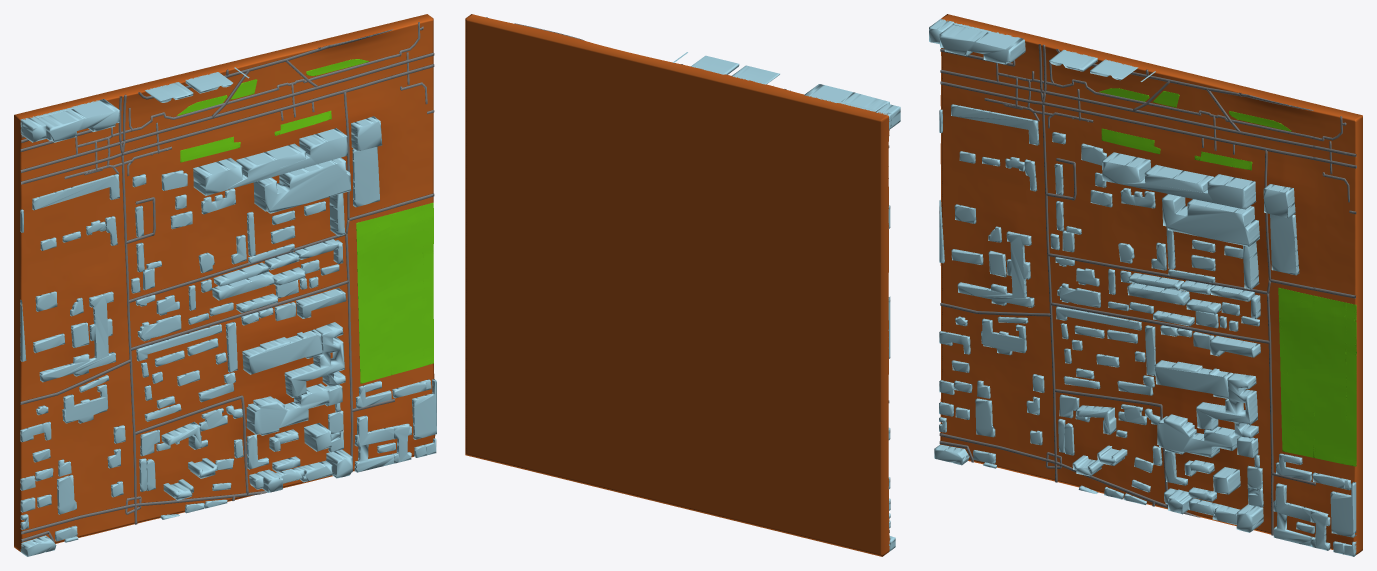
The picture shows the model from 3 angles, left to right: view 1: azimuth 30°, elevation 25°; view 2: azimuth 150°, elevation 25°; view 3: azimuth 330°, elevation 25°; orthographic projection.
Parts seen in each view (by area): view 1: building_0 (×2), terrain_6, terrain_4, terrain_5, terrain_0, terrain_1, terrain_2, terrain_3, terrain_7, landcover_5, landcover_6 (×2), transportation_19 (+9 smaller); view 2: terrain_1, terrain_4, terrain_2, terrain_6, terrain_5, terrain_0, terrain_3, terrain_7, building_0; view 3: building_0 (×2), terrain_6, terrain_4, terrain_5, terrain_0, terrain_1, terrain_2, terrain_3, terrain_7, landcover_5, landcover_6 (×2), transportation_19 (+9 smaller).
Part boxes in pixels (x1,y1,x2,y2): building_0 (×2): [20, 67, 436, 556]; terrain_6: [20, 33, 433, 193]; terrain_4: [20, 153, 433, 312]; terrain_5: [20, 94, 433, 251]; terrain_0: [20, 398, 435, 543]; terrain_1: [20, 350, 434, 490]; terrain_2: [20, 291, 359, 429]; terrain_3: [20, 233, 357, 371]; terrain_7: [14, 14, 433, 551]; landcover_5: [356, 205, 424, 383]; landcover_6 (×2): [391, 203, 433, 374]; transportation_19: [128, 232, 353, 472]; terrain_1: [465, 337, 882, 495]; terrain_4: [465, 154, 882, 315]; terrain_2: [465, 275, 882, 435]; terrain_6: [465, 34, 882, 194]; terrain_5: [465, 95, 882, 253]; terrain_0: [465, 396, 882, 556]; terrain_3: [465, 216, 882, 374]; terrain_7: [465, 14, 889, 556]; building_0: [673, 52, 900, 551]; building_0 (×2): [929, 19, 1356, 556]; terrain_6: [941, 48, 1356, 196]; terrain_4: [940, 152, 1356, 304]; terrain_5: [940, 93, 1356, 255]; terrain_0: [940, 392, 1355, 549]; terrain_1: [941, 340, 1356, 494]; terrain_2: [941, 272, 1281, 416]; terrain_3: [940, 213, 1279, 356]; terrain_7: [941, 14, 1362, 554]; landcover_5: [1278, 287, 1346, 464]; landcover_6 (×2): [1313, 304, 1356, 465]; transportation_19: [1048, 253, 1273, 535].
Size of the model in its own units: 200 by 200 by 18.51.
